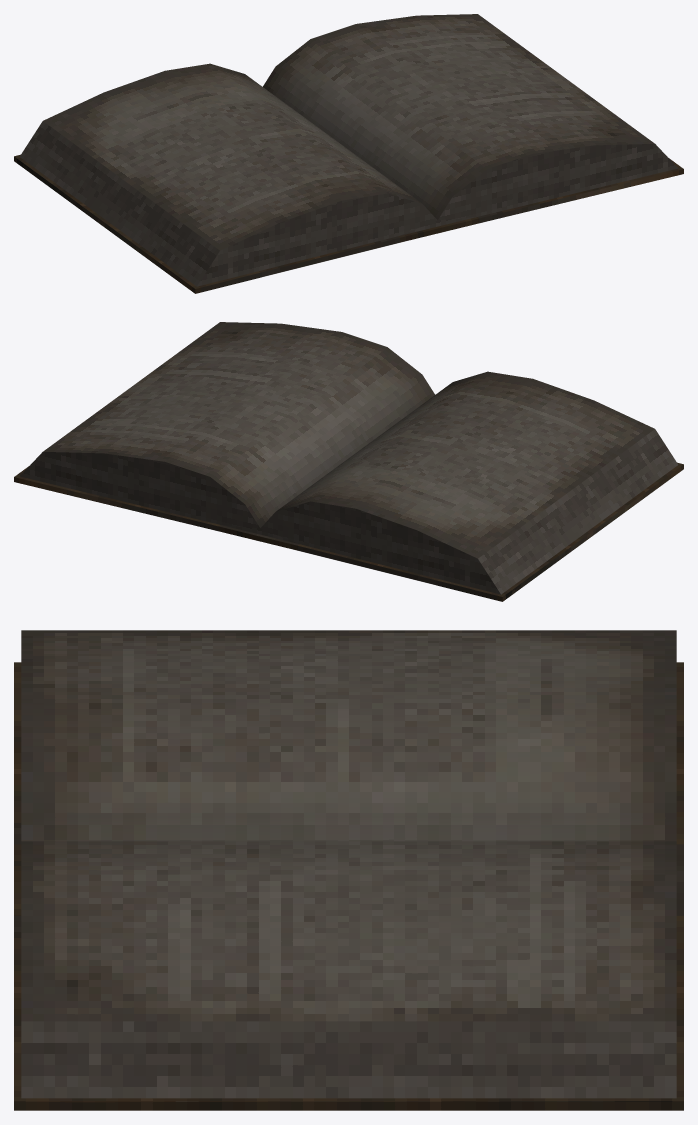
The model's file is open_book_mp_1.glb.
3 views of the same model, one above another, from view 1: azimuth 30°, elevation 25°; view 2: azimuth 150°, elevation 25°; view 3: azimuth 270°, elevation 25° (orthographic). The views are drawn at different scales.
Visible parts, largest first — view 1: open_book_mp_1; view 2: open_book_mp_1; view 3: open_book_mp_1.
Boxes of the visible parts, x1,y1,x2,y2 form: open_book_mp_1: [14, 14, 683, 293]; open_book_mp_1: [14, 322, 683, 601]; open_book_mp_1: [14, 630, 683, 1110].
Bounding box in the file's own units: 0.42 × 0.0458 × 0.27.
Materials: 1 (1 with a texture image).
